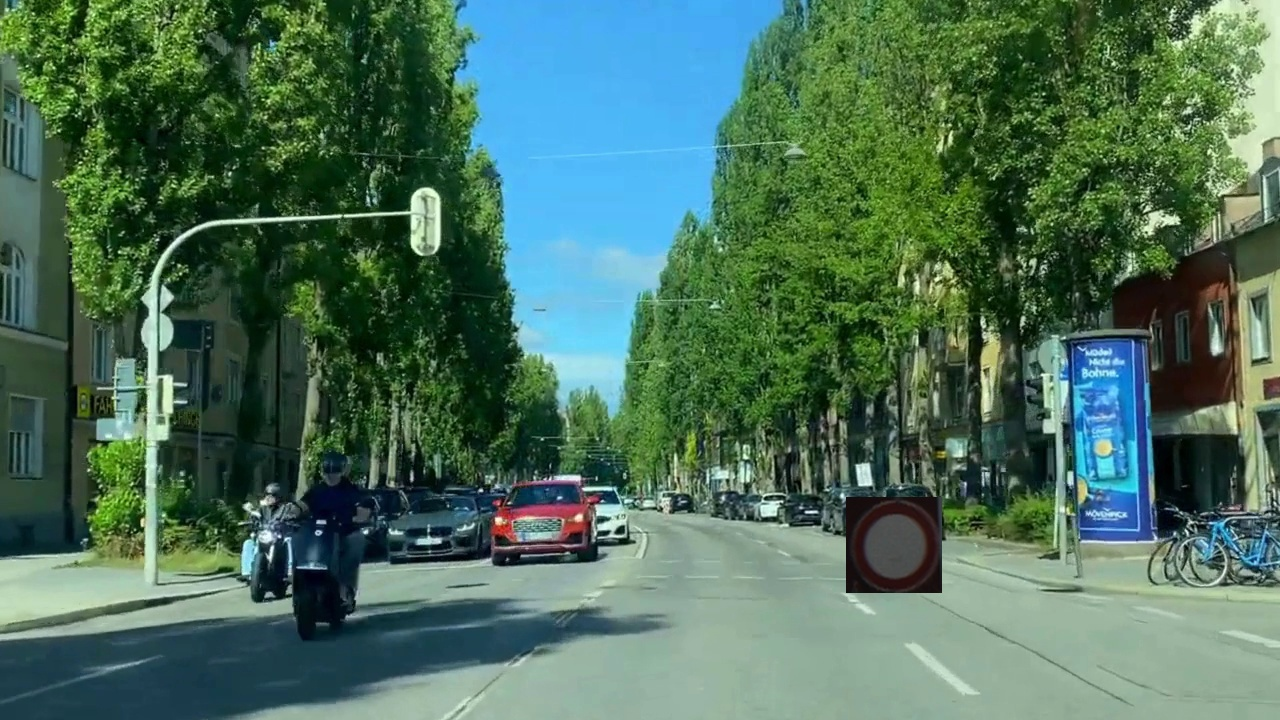No vehicles: (846, 497, 942, 593)
